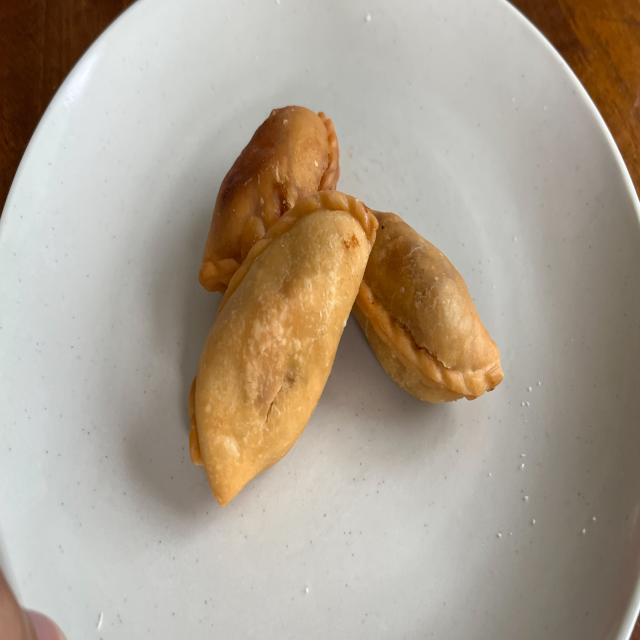karipap: (189, 191, 378, 504), (352, 211, 504, 402), (199, 107, 340, 293)
